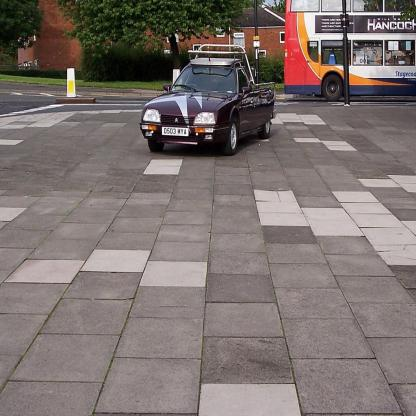Bus: (284, 0, 415, 102)
